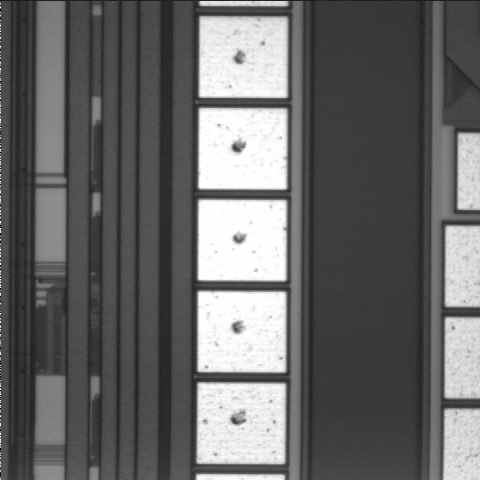pad: (198, 108, 287, 190), (199, 17, 288, 98), (198, 200, 287, 281), (197, 383, 286, 464), (198, 291, 286, 372)
